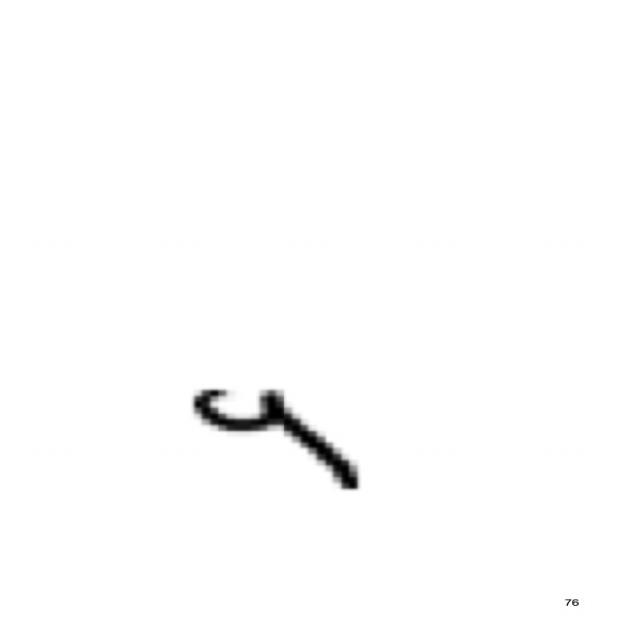9 -nine-: (180, 371, 377, 502)
